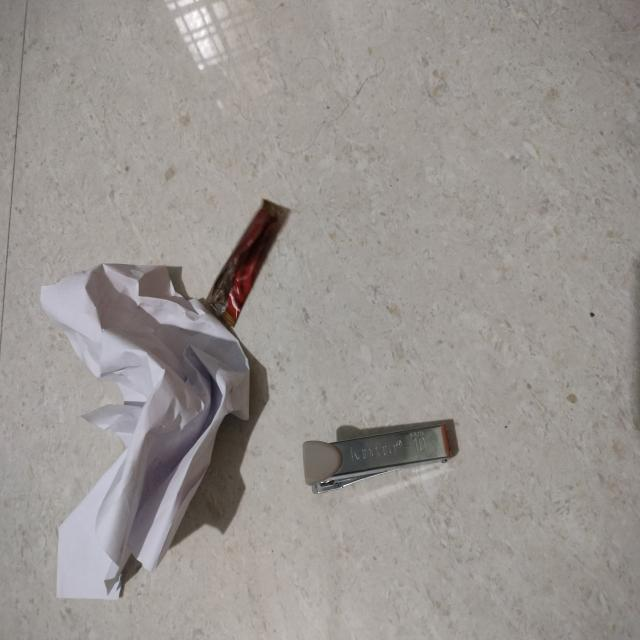dry: (39, 268, 250, 599), (206, 198, 290, 330), (302, 421, 453, 492)
